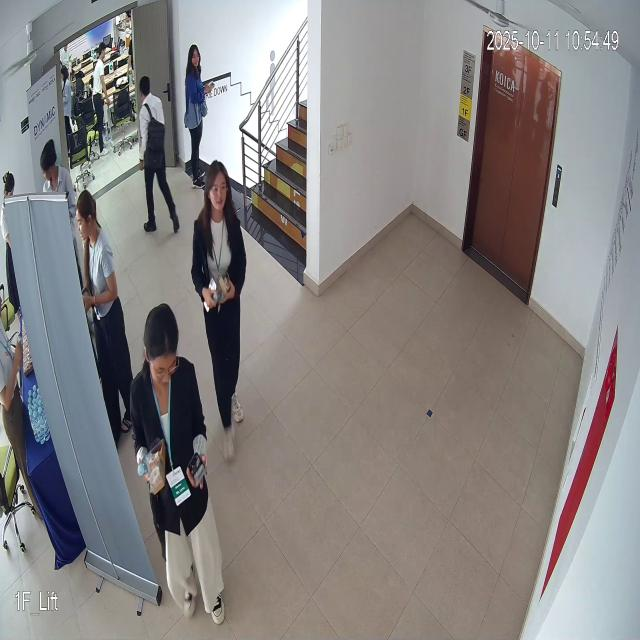face: (199, 153, 238, 222)
